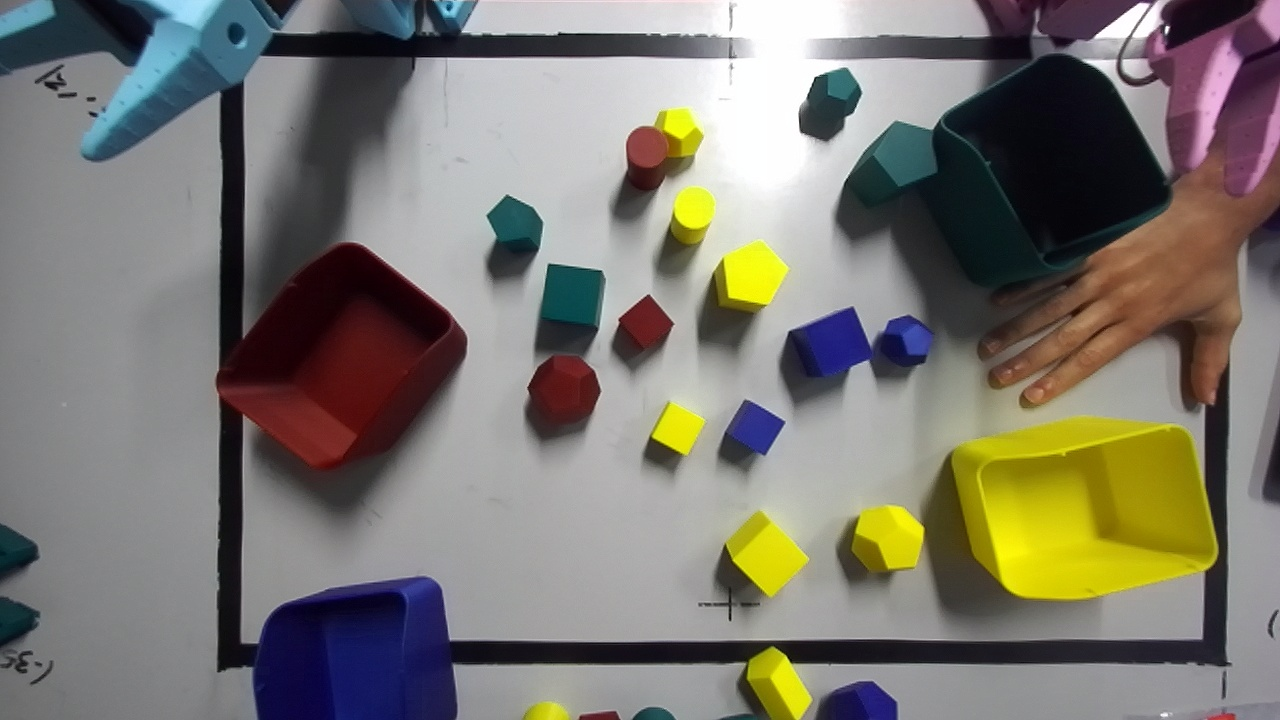bin: (916, 54, 1170, 286), (216, 242, 466, 468), (952, 416, 1216, 599), (252, 577, 456, 719)
cube: (725, 511, 807, 596), (787, 307, 871, 376), (540, 264, 604, 327), (724, 399, 785, 454), (619, 294, 673, 349), (649, 402, 704, 454)
cylinder: (626, 126, 667, 190), (670, 186, 715, 244)
dodecahedron: (527, 355, 600, 423), (851, 505, 924, 570), (799, 68, 862, 139), (879, 315, 933, 365), (655, 107, 702, 157)
hexagonal: (846, 121, 936, 207), (713, 240, 787, 311), (487, 194, 542, 251)
